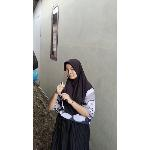Pisau: (54, 68, 74, 92)
